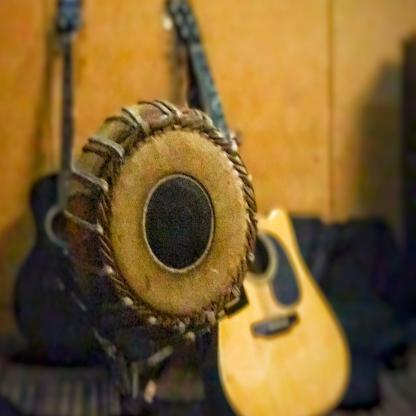Mridangam: (63, 92, 263, 335)
